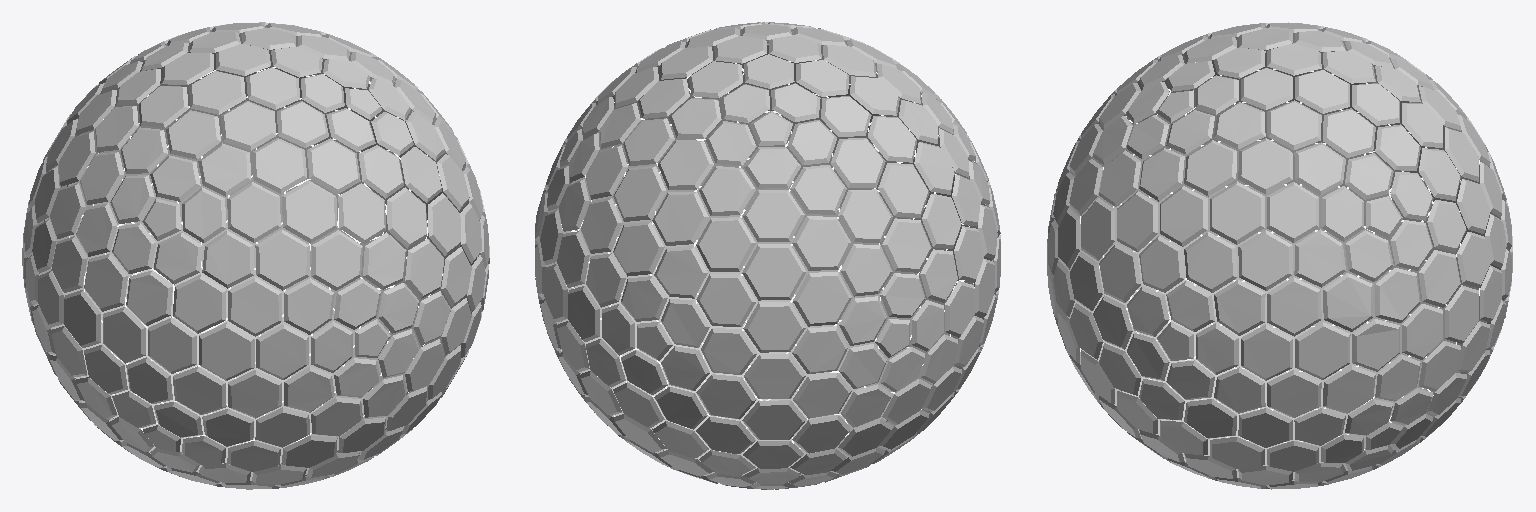
The model's file is expgolfball.obj.
The picture shows the model from 3 angles: view 1: azimuth 30°, elevation 25°; view 2: azimuth 150°, elevation 25°; view 3: azimuth 270°, elevation 25°; orthographic projection.
Parts seen in each view (by area): view 1: polySurface274; view 2: polySurface274; view 3: polySurface274.
Boxes of the visible parts, x1,y1,x2,y2 form: polySurface274: [22, 22, 489, 489]; polySurface274: [535, 22, 1000, 489]; polySurface274: [1047, 22, 1512, 489].
Size of the model in its own units: 0.4037 by 0.4041 by 0.4038.